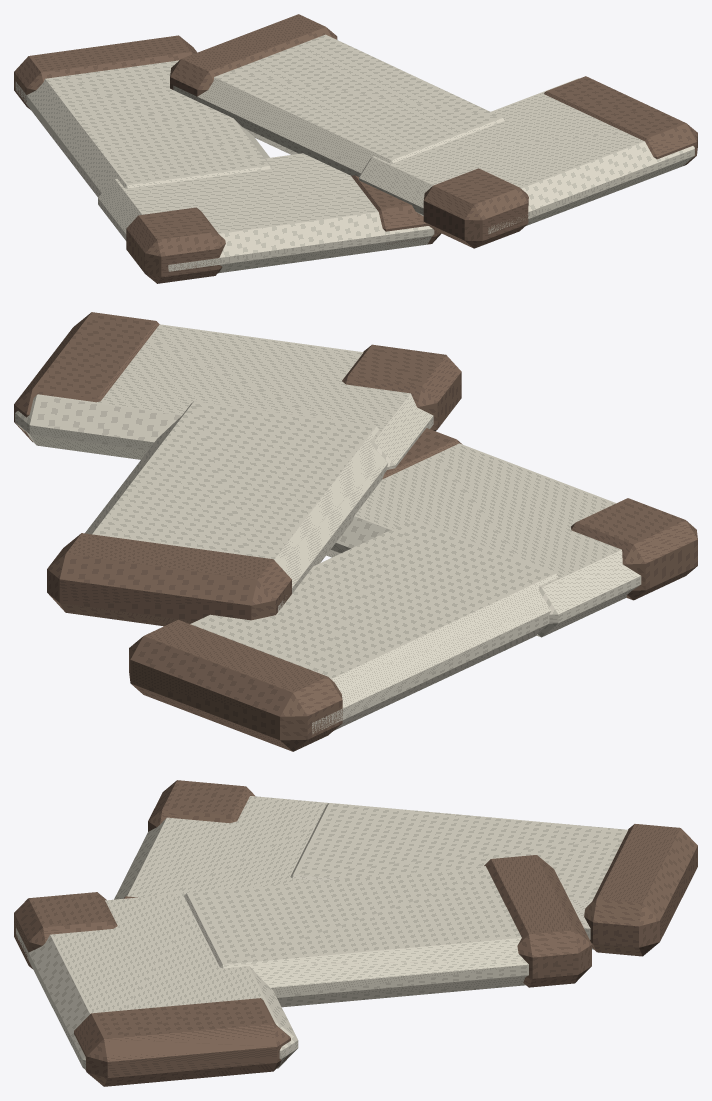
The model's file is xlsocks.glb.
3 renders of one model, top to bottom at view 1: azimuth 30°, elevation 25°; view 2: azimuth 150°, elevation 25°; view 3: azimuth 270°, elevation 25°, orthographic. The views are drawn at different scales.
Parts seen in each view (by area): view 1: block_leg (×2), block_foot (×2), block_heel (×2), block_ribbed cuff (×2), block_toe (×2); view 2: block_leg (×2), block_foot (×2), block_ribbed cuff (×2), block_heel (×2), block_toe (×2); view 3: block_leg (×2), block_foot (×2), block_ribbed cuff (×2), block_toe, block_heel (×2).
Part boxes in pixels (x1,y1,x2,y2): block_leg (×2): (15,34,504,196); block_foot (×2): (98,78,694,273); block_heel (×2): (126,168,528,283); block_ribbed cuff (×2): (14,14,337,109); block_toe (×2): (351,76,697,244); block_leg (×2): (85,401,558,733); block_foot (×2): (15,324,641,637); block_ribbed cuff (×2): (47,533,342,751); block_heel (×2): (342,344,697,600); block_toe (×2): (14,312,462,479); block_leg (×2): (184,803,627,1007); block_foot (×2): (16,796,328,1069); block_ribbed cuff (×2): (484,824,697,987); block_toe: (74,998,290,1086); block_heel (×2): (14,780,255,968).
Bounding box in the file's own units: 0.2645 × 0.0325 × 0.2606.
1 material, 1 textured.
